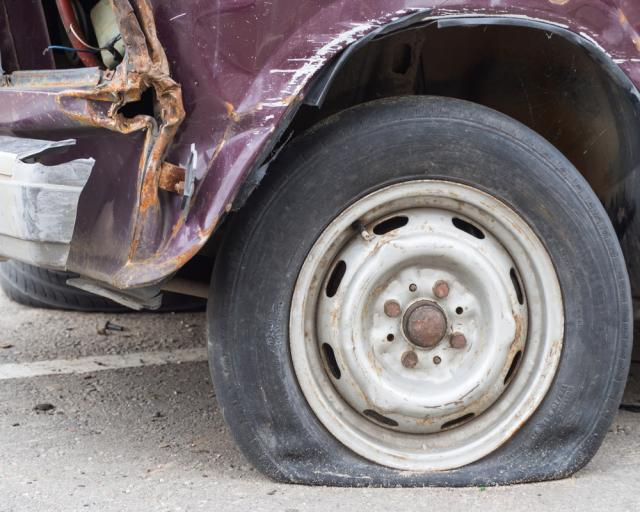dent: (120, 2, 343, 287)
tire flat: (206, 95, 632, 488)
